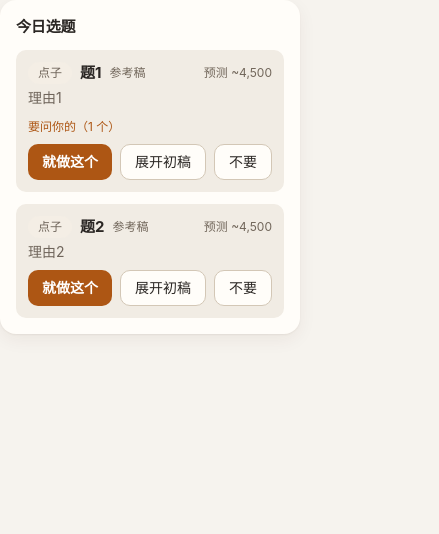
Test: DailyTopics › does not offer writing until a question is answered, and hides the block without questions
Click the button "要问你的（1 个）" at [74, 127], box [28, 119, 120, 135]
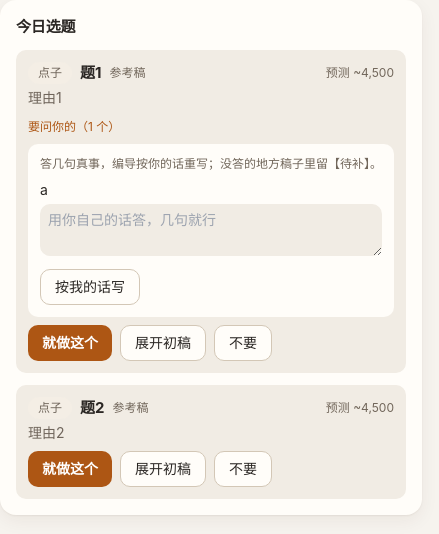
expect the number of buttons "要问你的（1 个）" is 1: met, box [28, 119, 120, 135]
expect the button "按我的话写" is disabled: met, box [40, 269, 140, 305]
